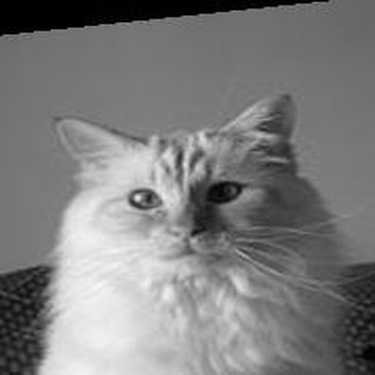cat: (42, 86, 348, 370)
